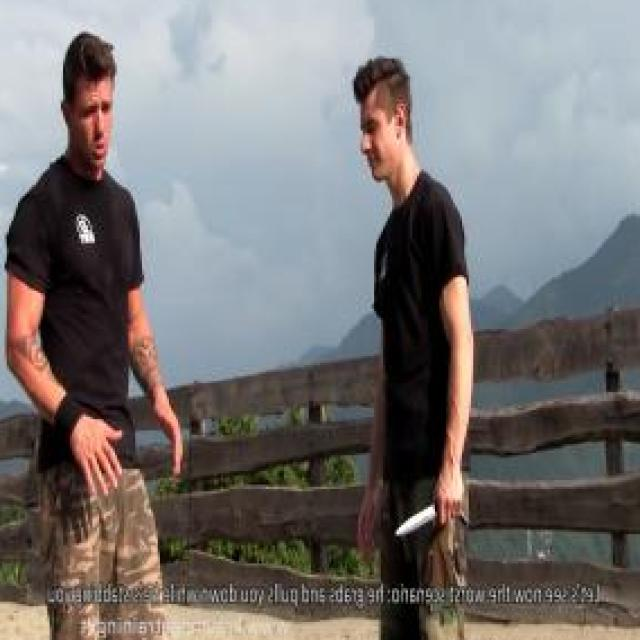knife: (390, 487, 466, 542)
